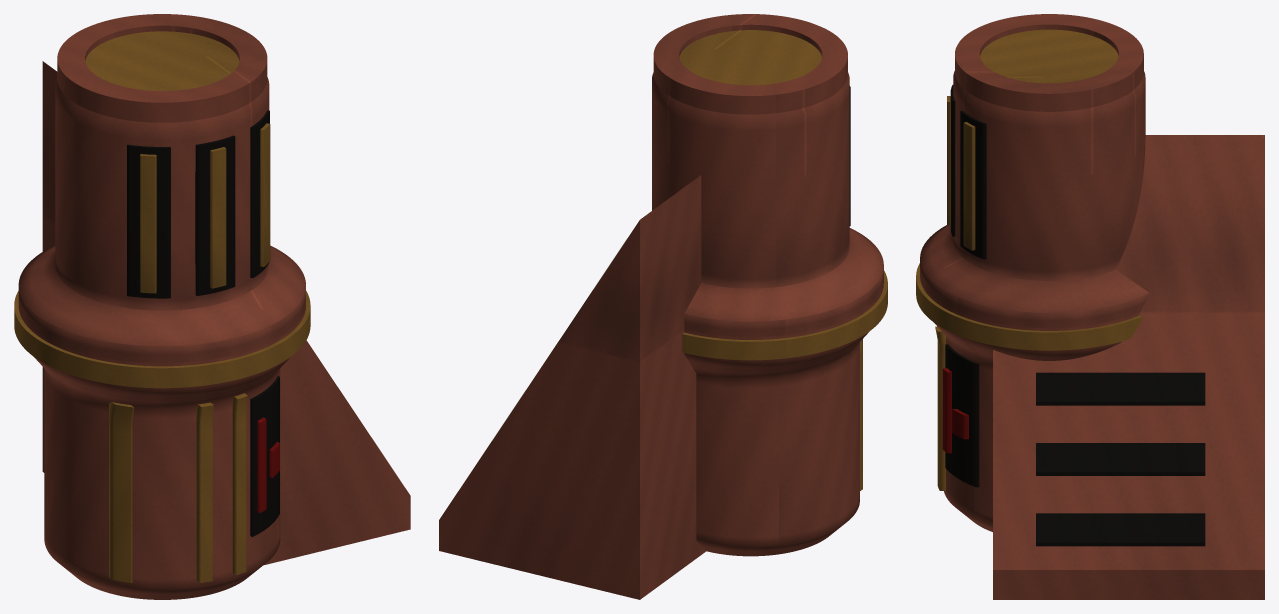
3 views of the same model, side by side, from view 1: azimuth 30°, elevation 25°; view 2: azimuth 150°, elevation 25°; view 3: azimuth 270°, elevation 25° (orthographic). The views are drawn at different scales.
Visible parts, largest first — view 1: BR21 tiered cylindrical machine, BR21 sloping rear housing, BR21 flat upper rose rim, BR21 upper inset gold plate, BR21 broad gold shoulder, BR21 upper dark equipment field 0, BR21 lower gold vertical rail 0, BR21 upper dark equipment field 1, BR21 lower dark service field, BR21 lower gold vertical rail 1, BR21 lower gold vertical rail 2, BR21 upper gold vertical fitting 0 (+4 smaller); view 2: BR21 tiered cylindrical machine, BR21 sloping rear housing, BR21 flat upper rose rim, BR21 upper inset gold plate, BR21 broad gold shoulder; view 3: BR21 sloping rear housing, BR21 tiered cylindrical machine, BR21 flat upper rose rim, BR21 upper inset gold plate, BR21 sloping dark equipment slot 0, BR21 sloping dark equipment slot 2, BR21 sloping dark equipment slot 1, BR21 broad gold shoulder, BR21 lower dark service field, BR21 upper dark equipment field 2, BR21 upper gold vertical fitting 2, BR21 lower gold vertical rail 2 (+3 smaller).
Part boxes in pixels (bbox=[...]): BR21 tiered cylindrical machine: bbox=[18, 77, 305, 599]; BR21 sloping rear housing: bbox=[42, 61, 410, 564]; BR21 flat upper rose rim: bbox=[57, 14, 267, 122]; BR21 upper inset gold plate: bbox=[85, 31, 239, 90]; BR21 broad gold shoulder: bbox=[14, 291, 310, 388]; BR21 upper dark equipment field 0: bbox=[127, 144, 170, 298]; BR21 lower gold vertical rail 0: bbox=[109, 402, 134, 582]; BR21 upper dark equipment field 1: bbox=[195, 135, 235, 295]; BR21 lower dark service field: bbox=[250, 376, 279, 536]; BR21 lower gold vertical rail 1: bbox=[196, 402, 213, 582]; BR21 lower gold vertical rail 2: bbox=[232, 393, 247, 575]; BR21 upper gold vertical fitting 0: bbox=[140, 154, 156, 293]; BR21 tiered cylindrical machine: bbox=[652, 72, 883, 556]; BR21 sloping rear housing: bbox=[439, 175, 706, 599]; BR21 flat upper rose rim: bbox=[653, 14, 847, 114]; BR21 upper inset gold plate: bbox=[679, 30, 821, 85]; BR21 broad gold shoulder: bbox=[682, 270, 887, 360]; BR21 sloping rear housing: bbox=[993, 135, 1264, 599]; BR21 tiered cylindrical machine: bbox=[920, 71, 1149, 531]; BR21 flat upper rose rim: bbox=[955, 14, 1143, 111]; BR21 upper inset gold plate: bbox=[980, 29, 1118, 83]; BR21 sloping dark equipment slot 0: bbox=[1036, 372, 1205, 405]; BR21 sloping dark equipment slot 2: bbox=[1036, 513, 1205, 546]; BR21 sloping dark equipment slot 1: bbox=[1036, 443, 1205, 475]; BR21 broad gold shoulder: bbox=[916, 263, 1143, 350]; BR21 lower dark service field: bbox=[945, 344, 979, 487]; BR21 upper dark equipment field 2: bbox=[960, 110, 986, 259]; BR21 upper gold vertical fitting 2: bbox=[963, 122, 975, 250]; BR21 lower gold vertical rail 2: bbox=[935, 326, 945, 490].
Size of the model in its own units: 1.08 by 1.5 by 1.05.
4 materials, 4 textured.
